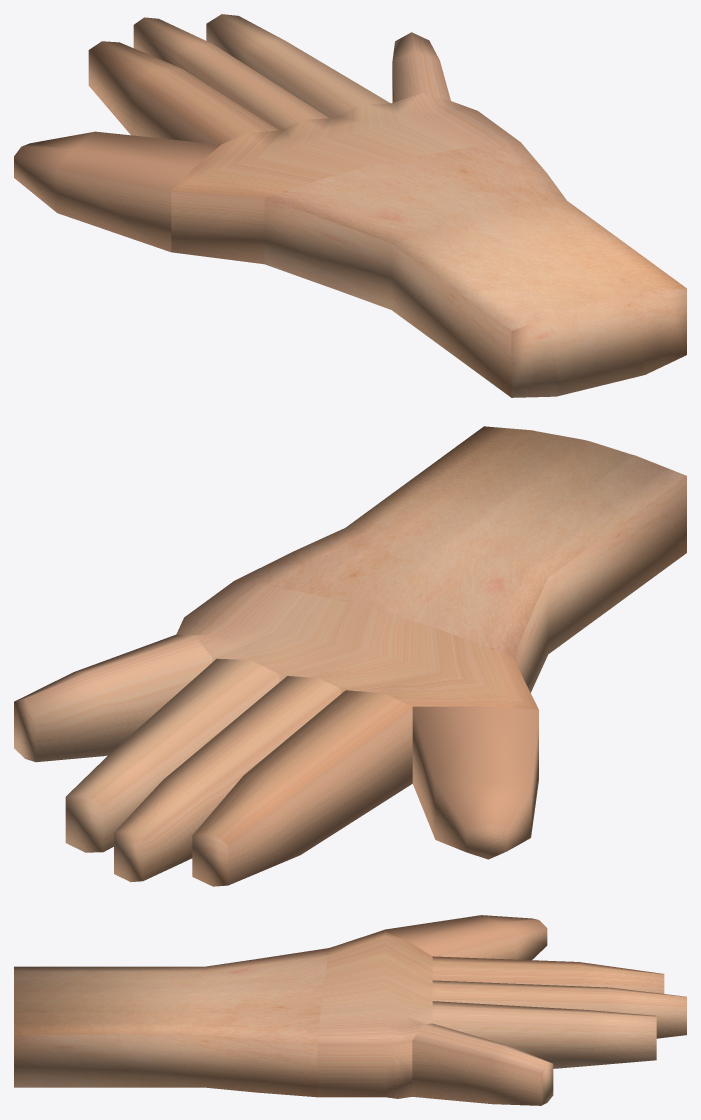
Rendered from hand.FBX.
3 views of the same model, one above another, from view 1: azimuth 30°, elevation 25°; view 2: azimuth 150°, elevation 25°; view 3: azimuth 270°, elevation 25° (orthographic). The views are drawn at different scales.
Parts seen in each view (by area): view 1: Box001; view 2: Box001; view 3: Box001.
Part boxes in pixels (box(x1,y1,x2,y2)): Box001: box(14, 14, 686, 397); Box001: box(14, 426, 686, 886); Box001: box(14, 915, 686, 1105).
Size of the model in its own units: 49.27 by 9.6 by 86.01.
